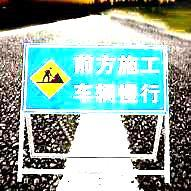sign: (21, 45, 167, 111)
